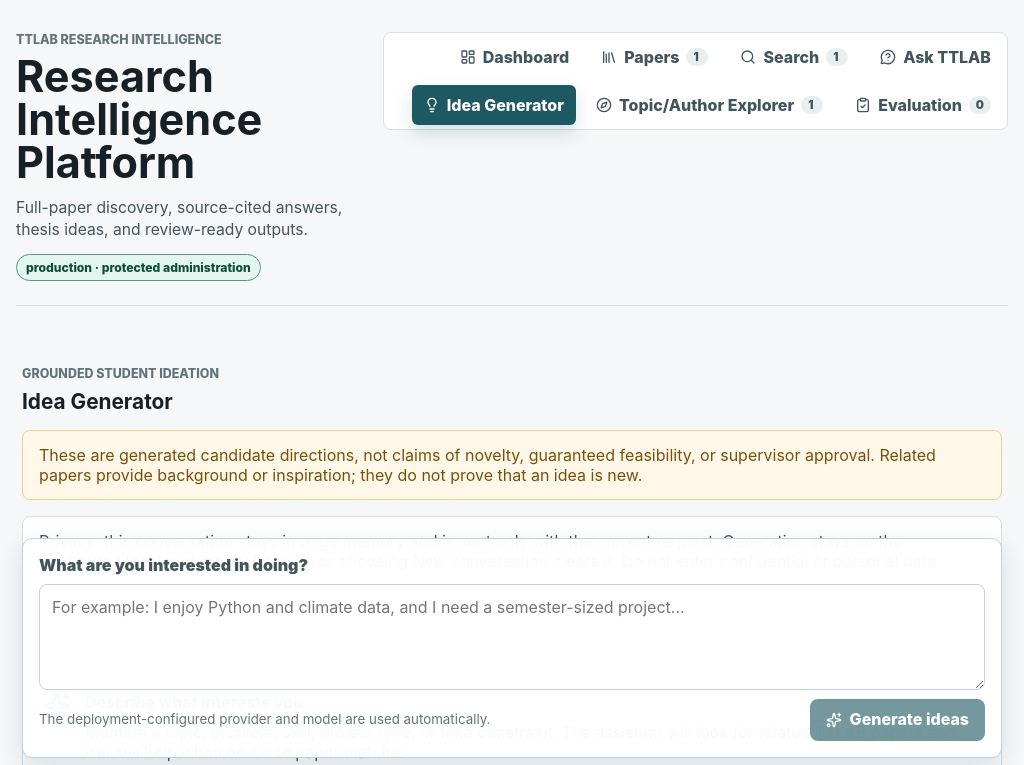
Ollama Idea Generator › replaces the Finder route and renders paper-informed chat cards
The width and height of the screenshot is (1024, 765).
Expected: the heading "Idea Generator" is shown, [22, 389, 173, 414]
Type "I know Python and want to work on RAG." into the text box labelled "What are you interested in doing?".
click(512, 637); type("I know Python and want to work on RAG.")  # box [39, 584, 985, 690]
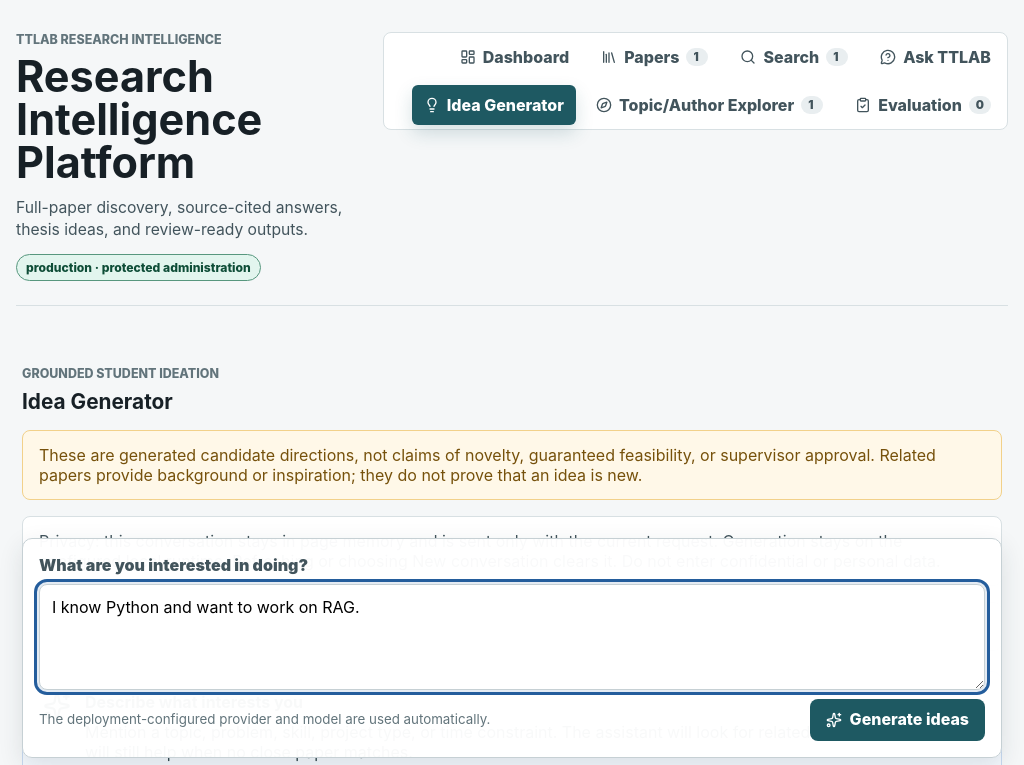
Click the button "Generate ideas".
click(897, 720)  # box [810, 699, 985, 741]
(page scrolled)
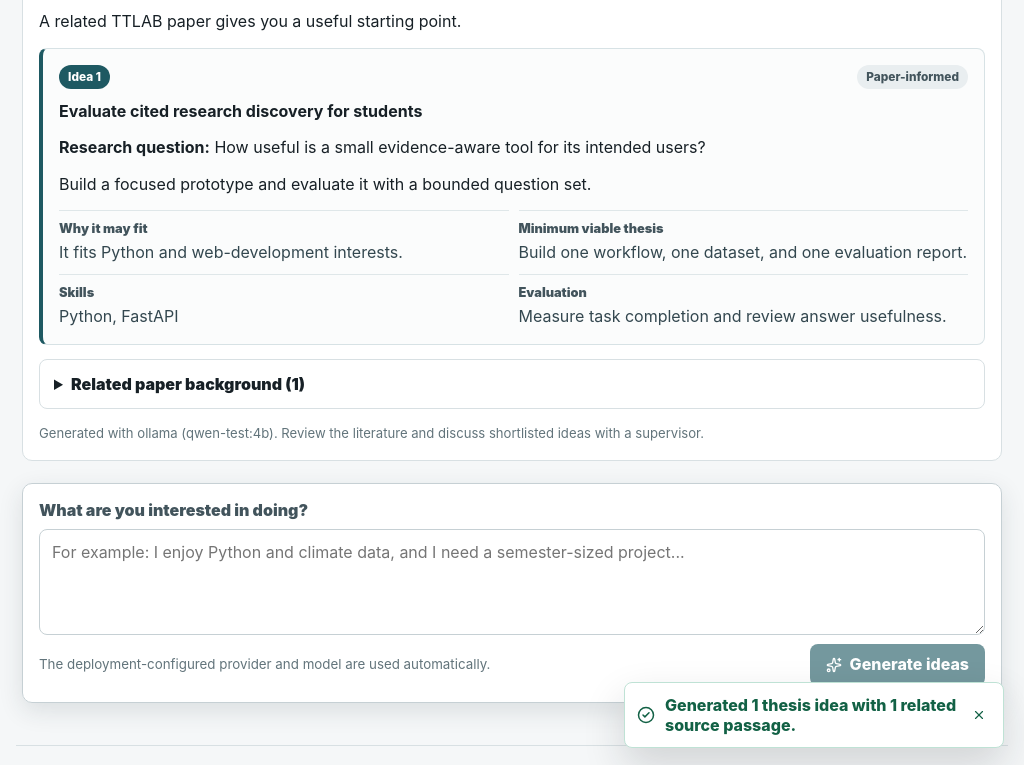
Now the heading "Evaluate cited research discovery for students" is shown, box [59, 101, 422, 121]
Click the heading "Related paper background (1)".
click(188, 384)  # box [71, 374, 305, 394]
(page scrolled)
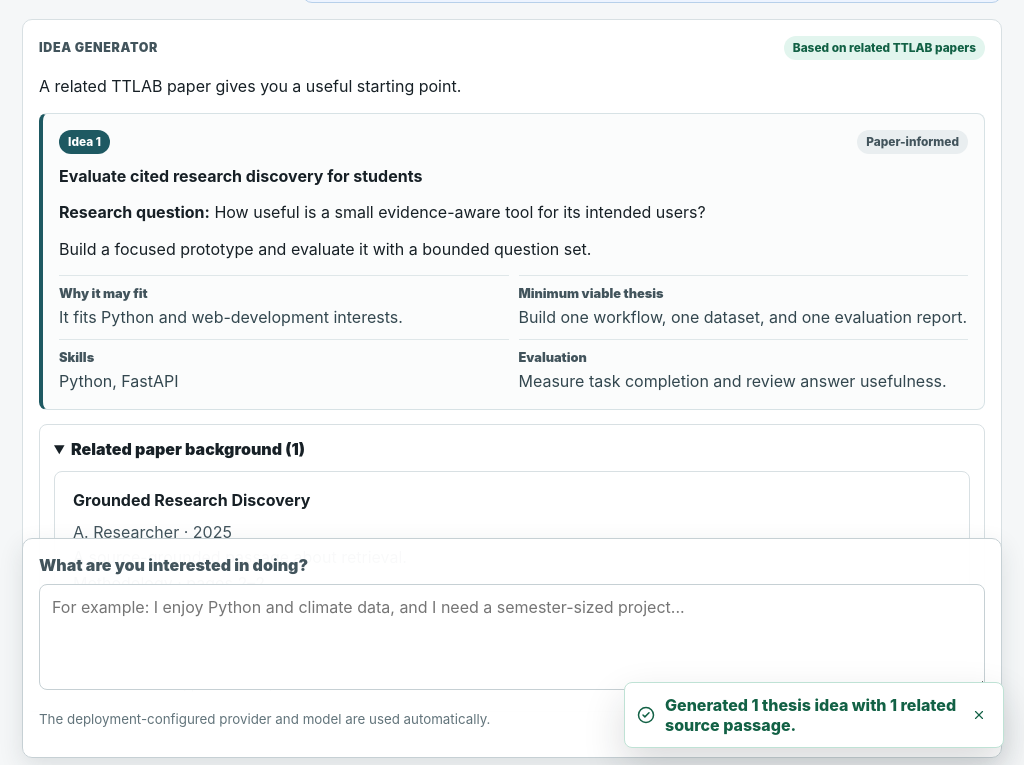
Now the text "A source-grounded passage about retrieval." is shown, box [73, 547, 407, 567]
